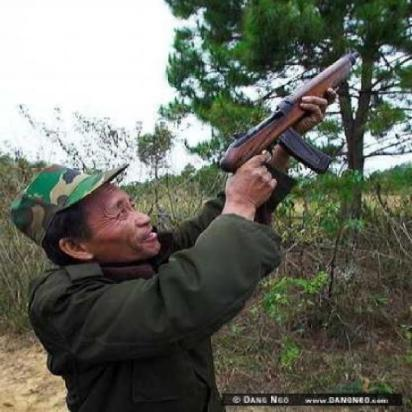Gun: (221, 50, 360, 170)
